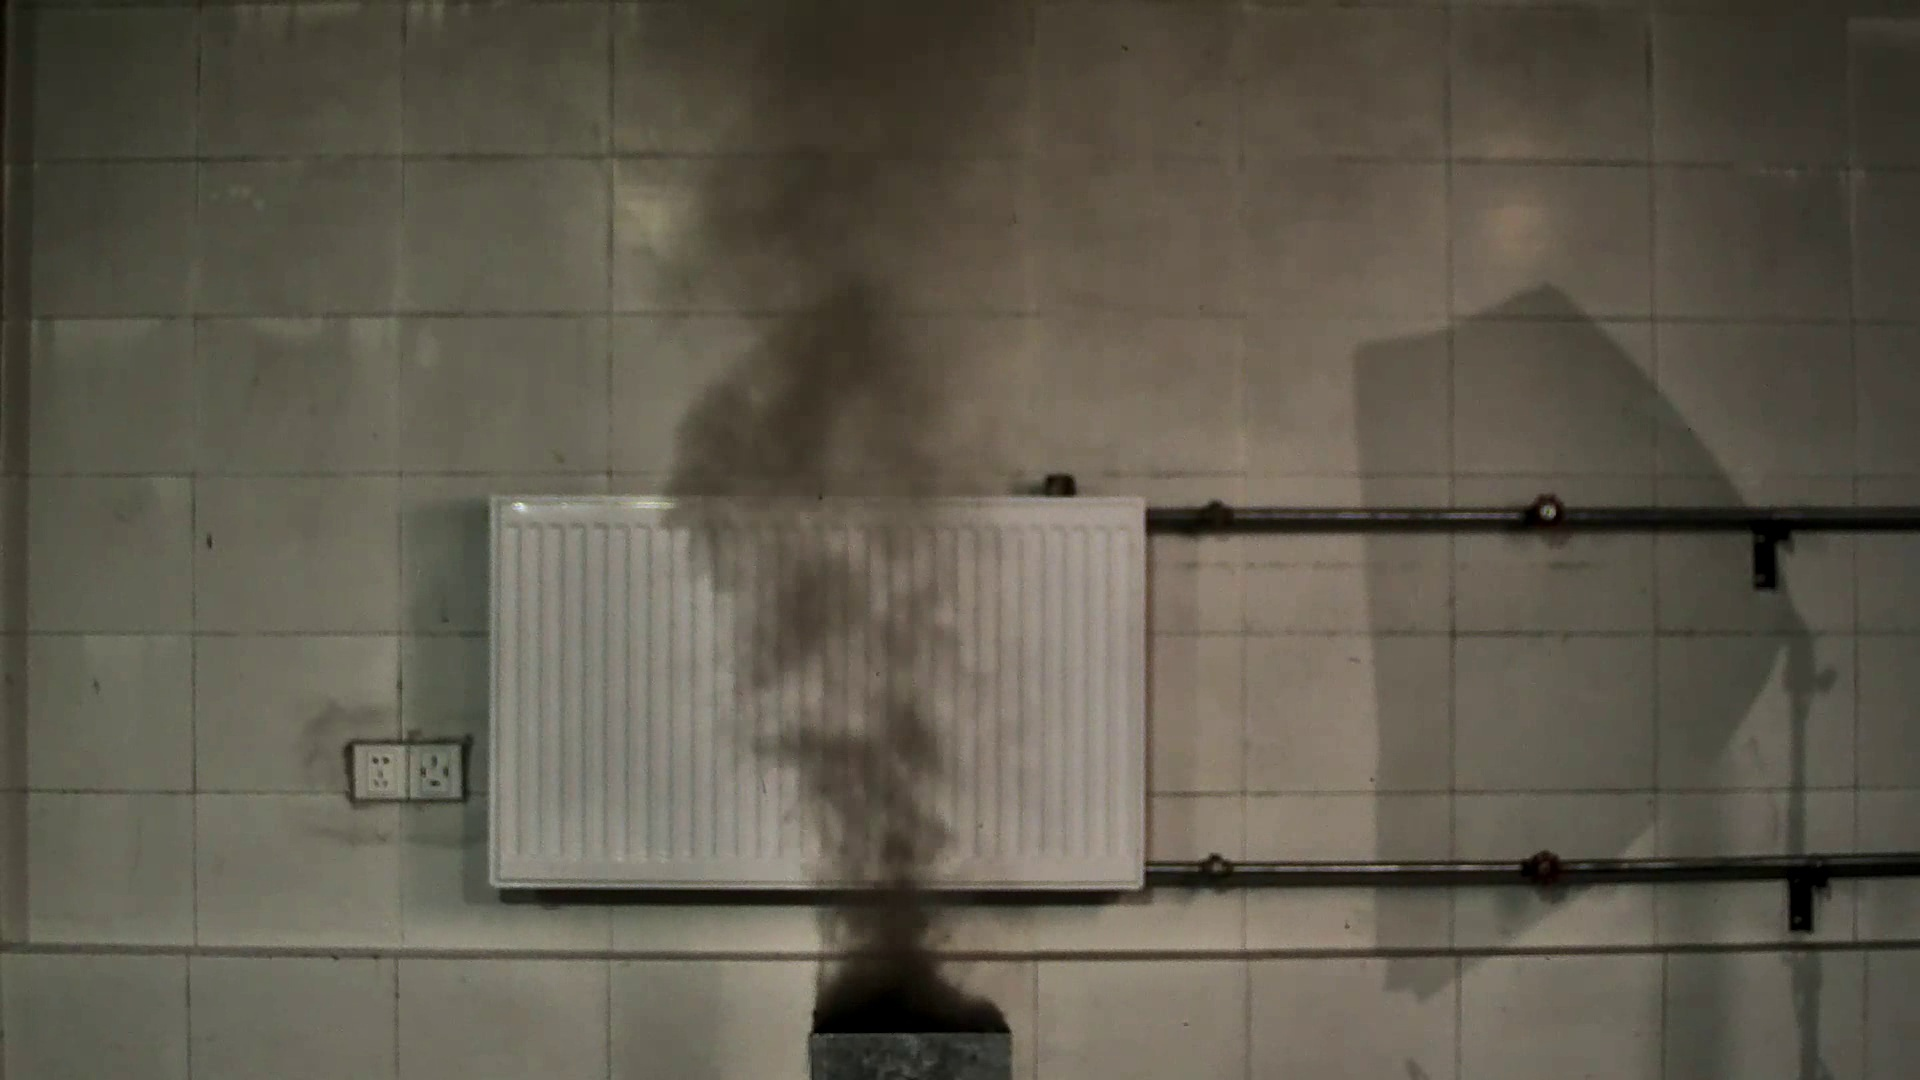smoke: (633, 22, 1007, 1001)
